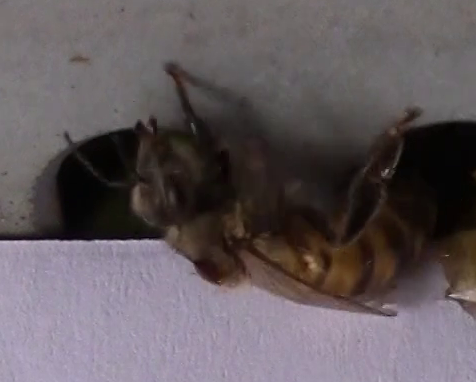Varroa destructor: (193, 255, 223, 284)
